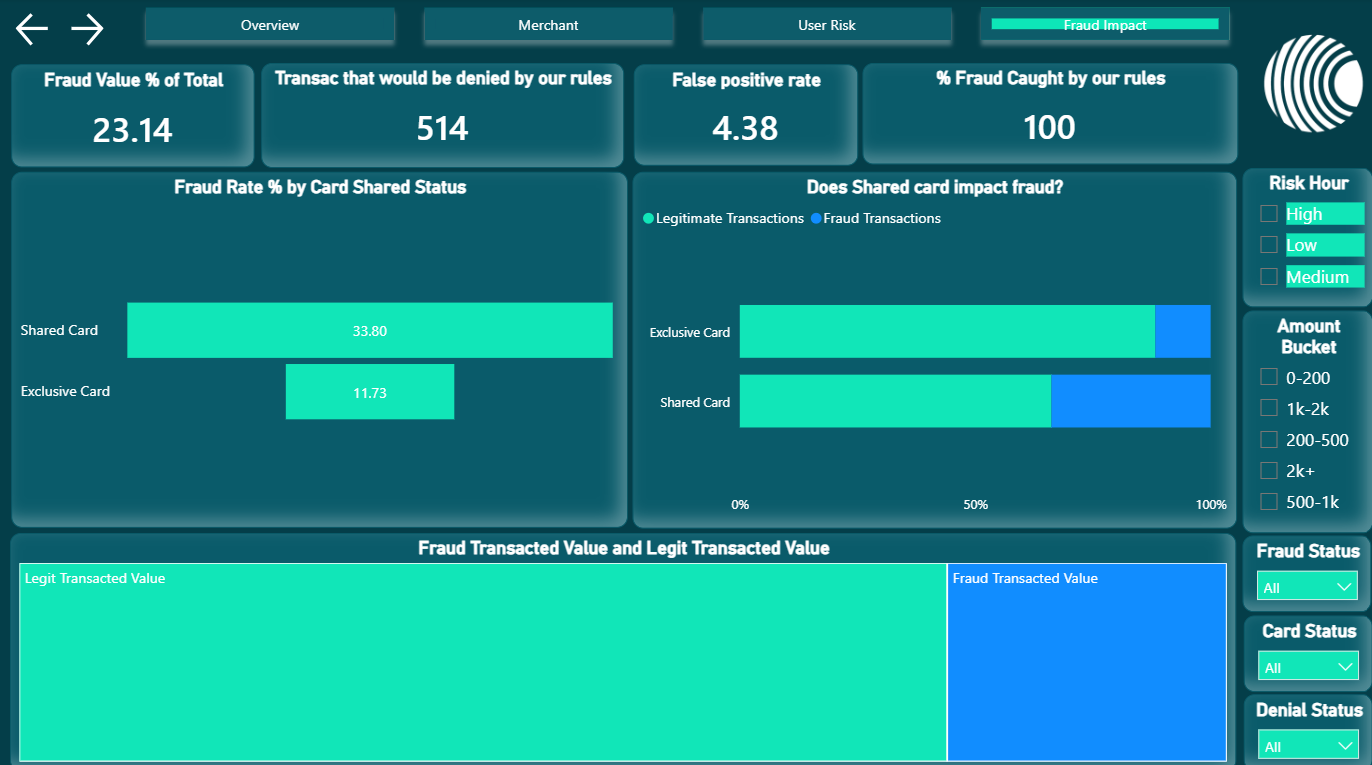

The page's visual inventory and layout, read from the dashboard file:
{"tool":"powerbi","page":{"name":"Fraud Impact","canvas":[1280,720],"ordinal":3},"visuals":[{"type":"treemap","fields":{"Values":["_Measures.Fraud Transacted Value","_Measures.Legit Transacted Value"]},"box":[9.7,497.8,1141,221.7],"z":0},{"type":"cardVisual","title":"Fraud Value % of Total","fields":{"Data":["_Measures.Fraud Value % of Total"]},"box":[10,61.2,226.2,96.2],"z":1000},{"type":"funnel","fields":{"Category":["transactional-sample.Card Shared Status"],"Y":["_Measures.Fraud Rate %"]},"box":[10,161.2,573.8,331.2],"z":2000},{"type":"hundredPercentStackedBarChart","title":"Does Shared card impact fraud?","fields":{"Category":["transactional-sample.Card Shared Status"],"Y":["_Measures.Legitimate Transactions","_Measures.Fraud Transactions"]},"box":[588.6,161.1,562,331.9],"z":3000},{"type":"cardVisual","title":"Transac that would be denied by our rules","fields":{"Data":["_Measures.Transactions Would Deny"]},"box":[242.7,60.7,337.5,97.7],"z":4000},{"type":"cardVisual","title":"False positive rate","fields":{"Data":["_Measures.False Positive Rate"]},"box":[589.1,62.2,208.7,94.7],"z":5000},{"type":"image","box":[1167.5,0,108.8,156.2],"z":6000},{"type":"actionButton","box":[60,8.8,47.5,40],"z":7000},{"type":"actionButton","box":[10,8.8,50,40],"z":8000},{"type":"pageNavigator","box":[127.2,0,1029.5,48.4],"z":9000},{"type":"slicer","title":"Risk Hour","fields":{"Values":["transactional-sample.Risk_hour"]},"box":[1155.5,158.7,122.3,129.6],"z":10000},{"type":"slicer","title":"Amount Bucket","fields":{"Values":["transactional-sample.amount_bucket"]},"box":[1155.5,290.5,122.3,207.1],"z":11000},{"type":"slicer","title":"Fraud Status","fields":{"Values":["transactional-sample.Fraud Status"]},"box":[1155.5,500,121.1,71.5],"z":12000},{"type":"slicer","title":"Card Status","fields":{"Values":["transactional-sample.Card Shared Status"]},"box":[1156.7,573.9,121.1,71.5],"z":13000},{"type":"slicer","title":"Denial Status","fields":{"Values":["transactional-sample.Denial Status"]},"box":[1156.7,648,121.1,71.5],"z":14000},{"type":"cardVisual","title":"% Fraud Caught by our rules","fields":{"Data":["_Measures.Fraud Caught %"]},"box":[802.2,60.7,349.3,94.7],"z":15000}]}

Visuals, with their boxes in screenshot pixels (x1, y1, x2, y2), scaled from the page's 1280x720 canvas onto the 1372x765 screenshot:
treemap - _Measures.Fraud Transacted Value x _Measures.Legit Transacted Value: 10/529/1233/764
"Fraud Value % of Total" cardVisual: 11/65/253/167
funnel - transactional-sample.Card Shared Status x _Measures.Fraud Rate %: 11/171/626/523
"Does Shared card impact fraud?" hundredPercentStackedBarChart: 631/171/1233/524
"Transac that would be denied by our rules" cardVisual: 260/64/622/168
"False positive rate" cardVisual: 631/66/855/167
image: 1251/0/1368/166
actionButton: 64/9/115/52
actionButton: 11/9/64/52
pageNavigator: 136/0/1240/51
"Risk Hour" slicer: 1239/169/1370/306
"Amount Bucket" slicer: 1239/309/1370/529
"Fraud Status" slicer: 1239/531/1368/607
"Card Status" slicer: 1240/610/1370/686
"Denial Status" slicer: 1240/688/1370/764
"% Fraud Caught by our rules" cardVisual: 860/64/1234/165
